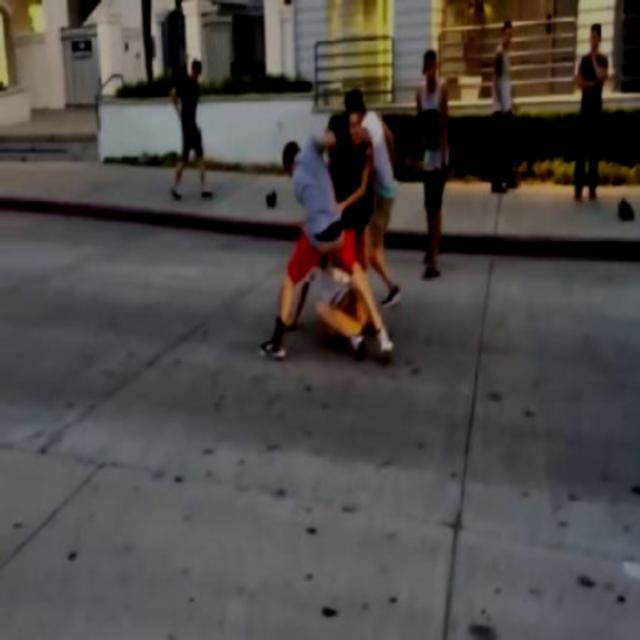fight: (260, 76, 406, 378)
non-fight: (409, 44, 454, 284), (570, 18, 610, 206), (167, 56, 215, 202), (488, 14, 518, 198)
